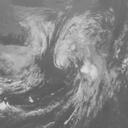cyclone: (54, 17, 103, 77)
